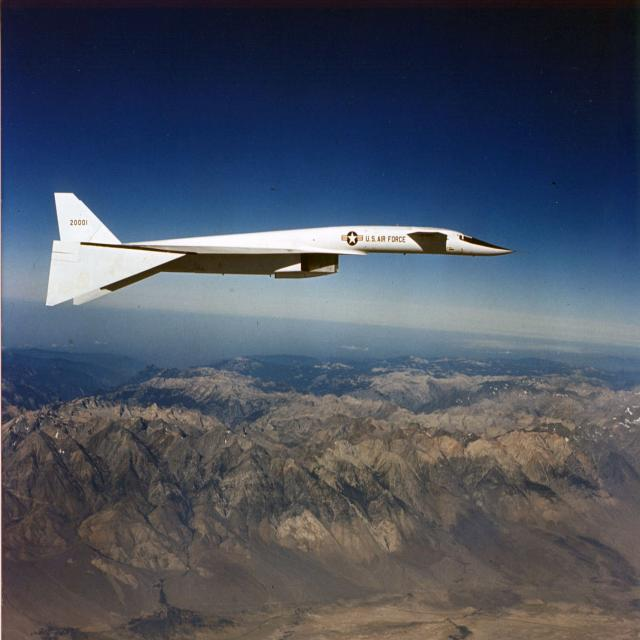MIL_Plane: (44, 192, 530, 308)
